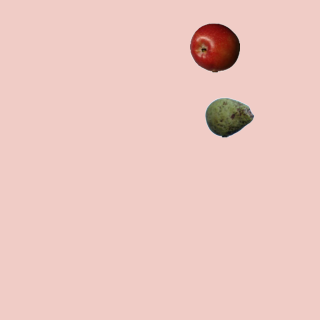Apple Braeburn: (189, 22, 239, 72)
Pear Stone: (204, 92, 254, 142)
